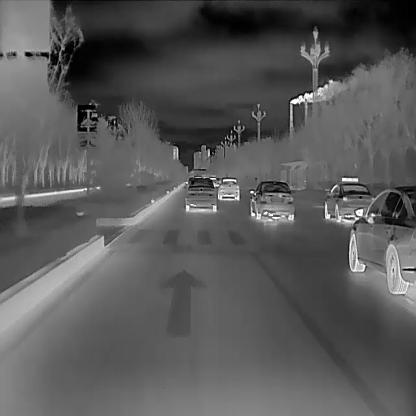car: (348, 187, 415, 295), (324, 175, 372, 222), (247, 180, 294, 222), (185, 176, 216, 212), (216, 177, 238, 200)
